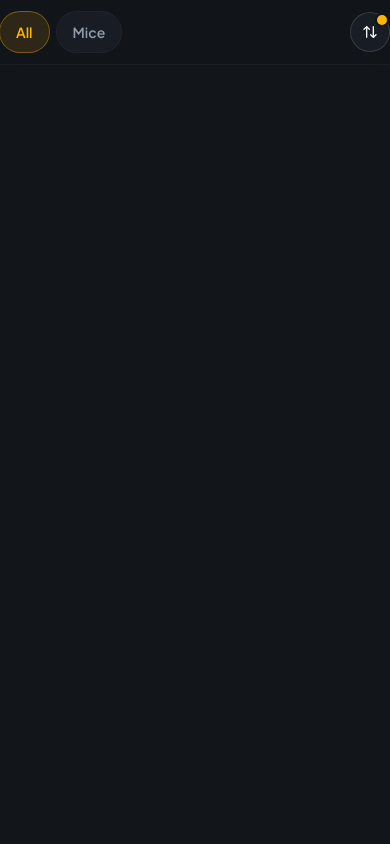
Test: sorting on a phone › opens a bottom sheet with every option, and marks the current one
Click the button named "Sort" at (370, 32), box top-left (350, 12), bottom-right (389, 52)
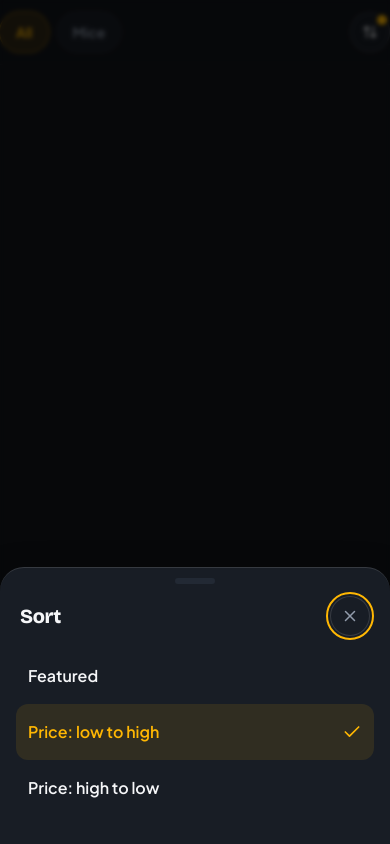
Expected: the radio buttons read "Featured", "Price: low to high", "Price: high to low", in this order, top-left (16, 648), bottom-right (374, 704); top-left (16, 704), bottom-right (374, 760); top-left (16, 760), bottom-right (374, 816)
Expected: the radio button labelled "Price: low to high" is checked, top-left (16, 704), bottom-right (374, 760)
